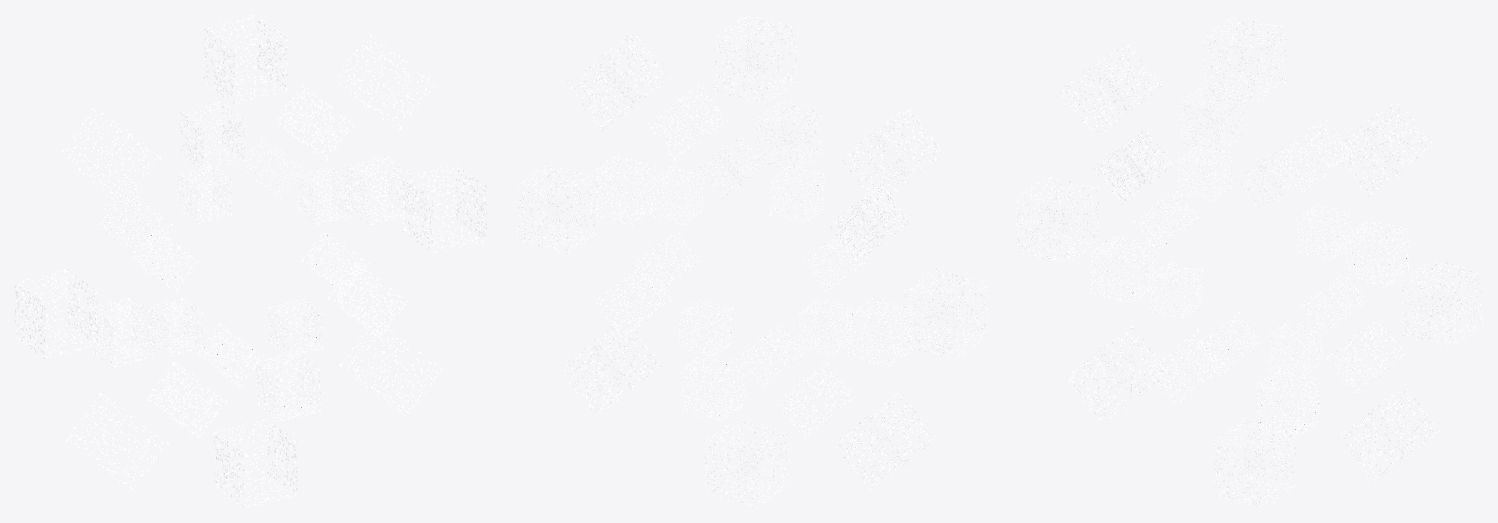
File: portal_model.5a3ec000.glb
3 renders of one model, left to right at view 1: azimuth 30°, elevation 25°; view 2: azimuth 150°, elevation 25°; view 3: azimuth 330°, elevation 25°, orthographic.
Visible parts, largest first — view 1: cube.018, cube.020, cube.024, cube.022, cube.011, cube.009, cube.013, cube.021, cube.017, cube.019, cube.023, cube.012 (+12 smaller); view 2: cube.022, cube.024, cube.020, cube.018, cube.013, cube.009, cube.011, cube.017, cube.023, cube.021, cube.019, cube.015 (+12 smaller); view 3: cube.018, cube.022, cube.020, cube.024, cube.009, cube.011, cube.013, cube.023, cube.019, cube.017, cube.021, cube.014 (+12 smaller).
Boxes of the visible parts, x1,y1,x2,y2 form: cube.018: (402,164,486,253); cube.020: (213,418,297,507); cube.024: (203,15,287,104); cube.022: (14,269,98,358); cube.011: (255,351,321,421); cube.009: (346,155,411,225); cube.013: (89,297,154,367); cube.021: (66,391,169,490); cube.017: (331,33,435,130); cube.019: (338,317,443,415); cube.023: (59,107,160,205); cube.012: (147,361,227,438); cube.022: (903,269,987,358); cube.024: (714,15,798,104); cube.020: (704,418,788,507); cube.018: (515,164,599,253); cube.013: (847,297,912,367); cube.009: (590,155,655,225); cube.011: (680,351,746,421); cube.017: (567,32,670,131); cube.023: (839,107,944,205); cube.021: (832,392,936,489); cube.019: (560,318,661,415); cube.015: (756,101,822,171); cube.018: (1400,258,1483,347); cube.022: (1016,177,1099,264); cube.020: (1213,419,1296,508); cube.024: (1203,16,1286,102); cube.009: (1344,218,1409,287); cube.011: (1255,368,1319,438); cube.013: (1090,236,1155,304); cube.023: (1059,41,1162,138); cube.019: (1338,384,1439,481); cube.017: (1330,103,1432,196); cube.021: (1067,325,1169,423); cube.014: (1093,129,1173,205).
Bounding box in the file's own units: 22.72 × 22.72 × 2.74.
24 materials, 24 textured.
